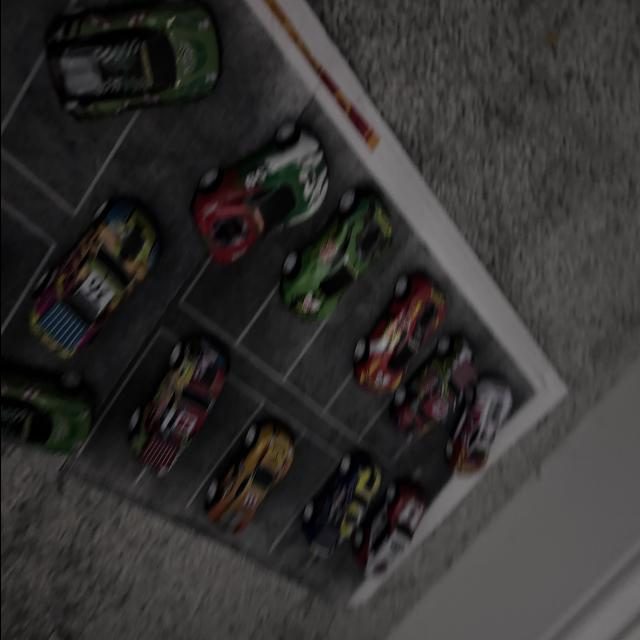Car: (260, 194, 397, 394), (20, 188, 160, 360), (349, 239, 465, 434), (108, 320, 234, 493), (302, 412, 412, 578), (206, 109, 330, 243), (36, 36, 230, 121), (378, 334, 483, 474), (210, 394, 301, 548), (450, 349, 526, 493), (348, 472, 414, 628), (0, 384, 117, 446)
